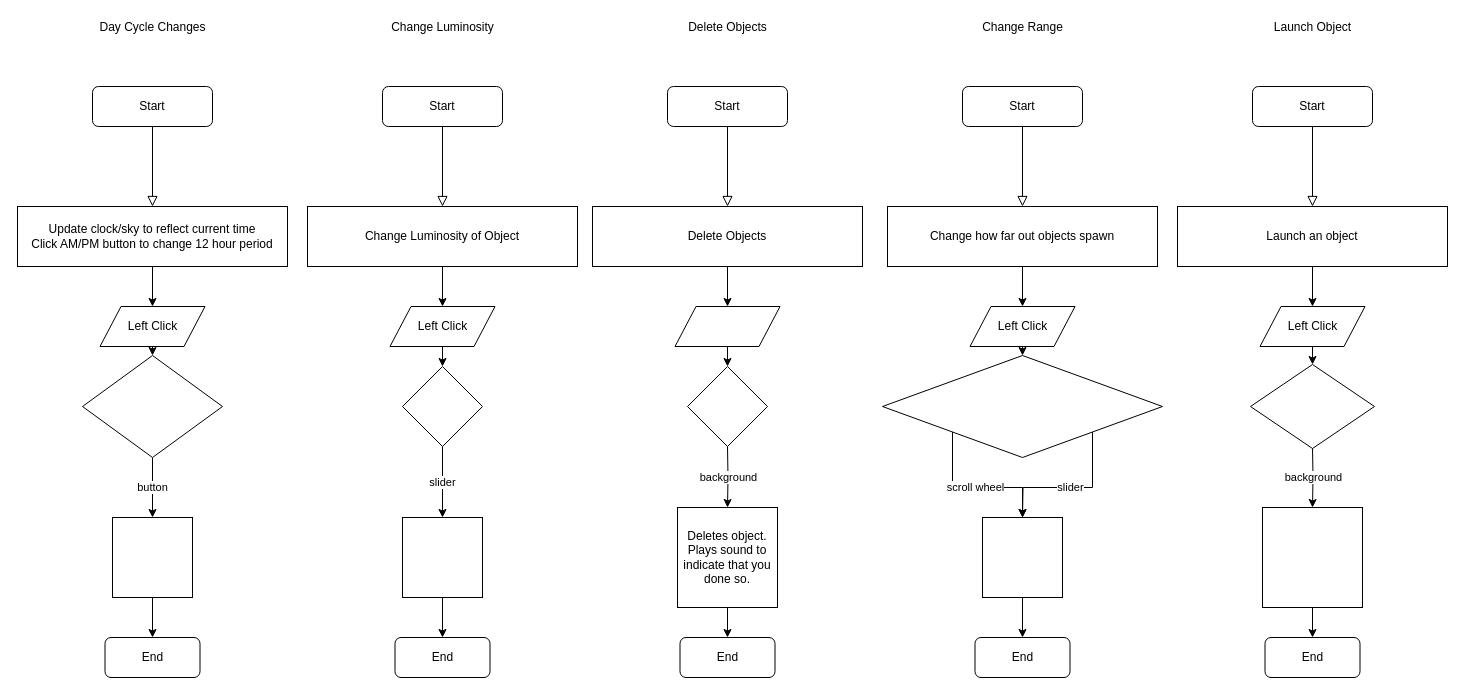
Some shapes in this 1465 by 695 pixel diagram are drawn without their labels. Here are the shapes that lost their labels. From the top down, the centre of each, then its label:
At point (727, 326): "Right Click".
At point (152, 406): "Press AM/PM button".
At point (442, 406): "Scroll luminosity Slider".
At point (727, 406): "Click on object".
At point (1022, 406): "Scroll Range Slider/ Scroll Mouse wheel".
At point (1312, 406): "Click background".
At point (152, 557): "Change period (AM/PM) of time".
At point (442, 557): "Changes luminosity setting of painted object".
At point (1022, 557): "Changes how far out object will spawn".
At point (1312, 557): "Launches the object. Plays sound to indicate that you done so.".
